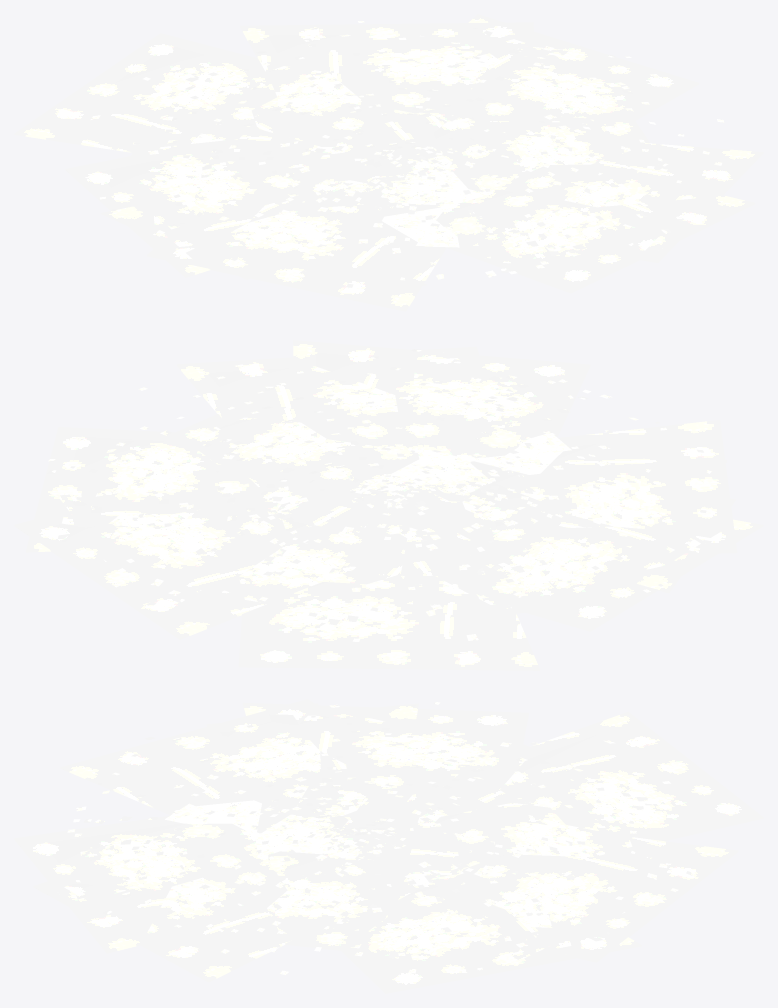
File: tve_clover_02.glb
The picture shows the model from 3 angles, top to bottom: view 1: azimuth 30°, elevation 25°; view 2: azimuth 150°, elevation 25°; view 3: azimuth 270°, elevation 25°; orthographic projection. The views are drawn at different scales.
Visible parts, largest first — view 1: TVE_Clover_02; view 2: TVE_Clover_02; view 3: TVE_Clover_02.
Part boxes in pixels (<box>): TVE_Clover_02: <box>14,14,763,311</box>; TVE_Clover_02: <box>14,340,763,670</box>; TVE_Clover_02: <box>14,699,763,993</box>.
Size of the model in its own units: 5.95 by 0.079 by 6.42.
Materials: 1 (1 with a texture image).
